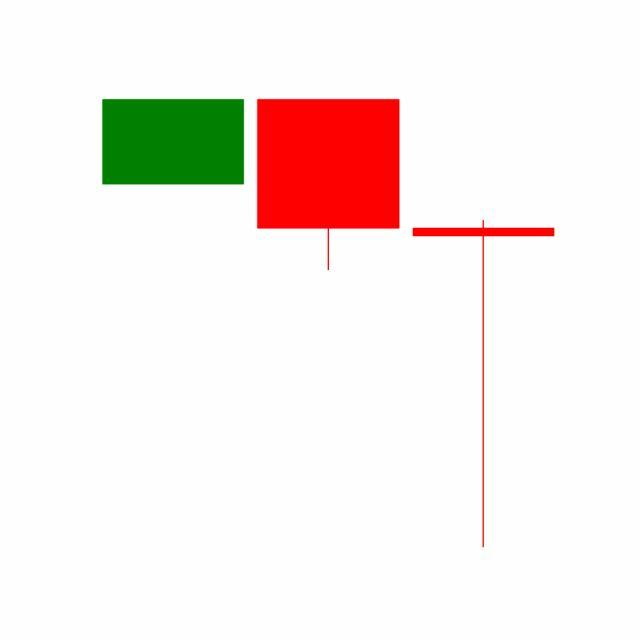Dragonfly Doji: (406, 217, 562, 551)
